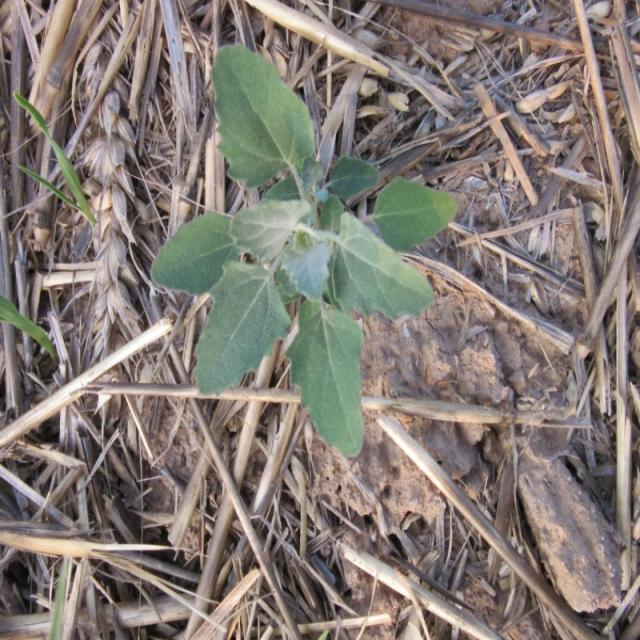ca: (152, 66, 455, 458)
